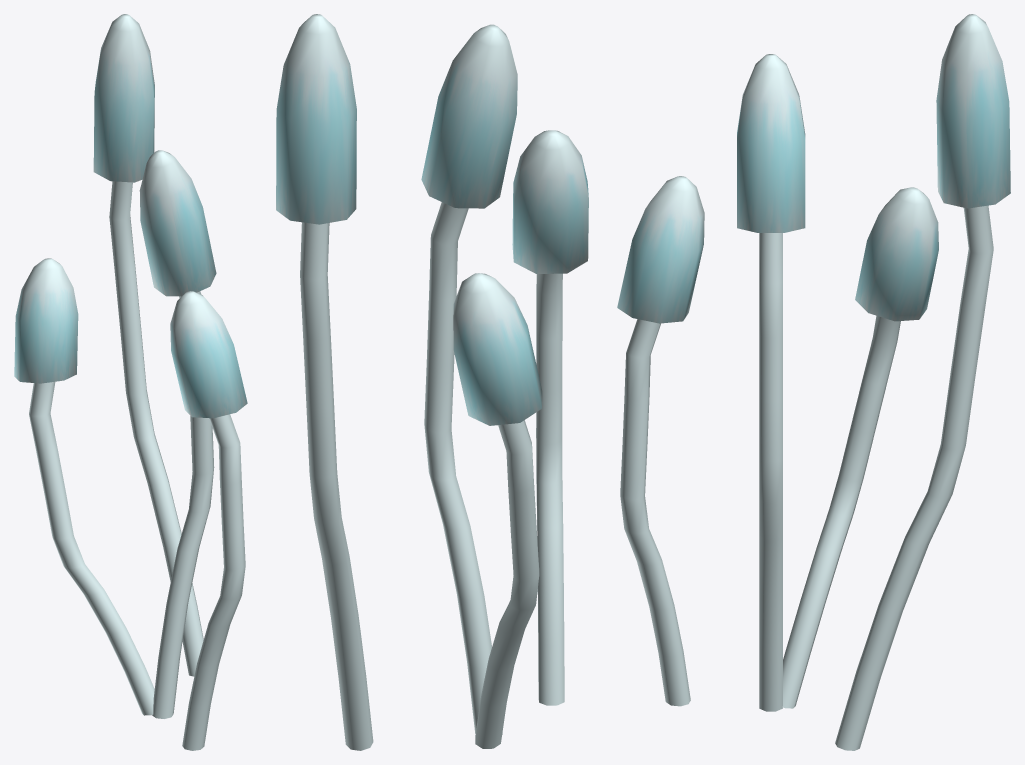
File: burke_mushroom.fbx
3 renders of one model, left to right at view 1: azimuth 30°, elevation 25°; view 2: azimuth 150°, elevation 25°; view 3: azimuth 270°, elevation 25°, orthographic. The views are drawn at different scales.
Visible parts, largest first — view 1: mushroom_mb2, mushroom_mb, mushroom_mb1, mushroom_mb3; view 2: mushroom_mb2, mushroom_mb, mushroom_mb1, mushroom_mb3; view 3: mushroom_mb2, mushroom_mb, mushroom_mb1, mushroom_mb3.
Part boxes in pixels (x1,y1,x2,y2): mushroom_mb2: (93,14,203,676); mushroom_mb: (139,150,216,718); mushroom_mb1: (170,291,247,750); mushroom_mb3: (14,258,154,715); mushroom_mb2: (276,14,373,750); mushroom_mb: (421,24,517,734); mushroom_mb1: (512,130,588,705); mushroom_mb3: (453,273,542,748); mushroom_mb2: (835,14,1010,750); mushroom_mb: (737,54,805,711); mushroom_mb1: (617,176,704,706); mushroom_mb3: (782,187,938,708).
Size of the model in its own units: 0.5349 by 1.86 by 0.9213.
